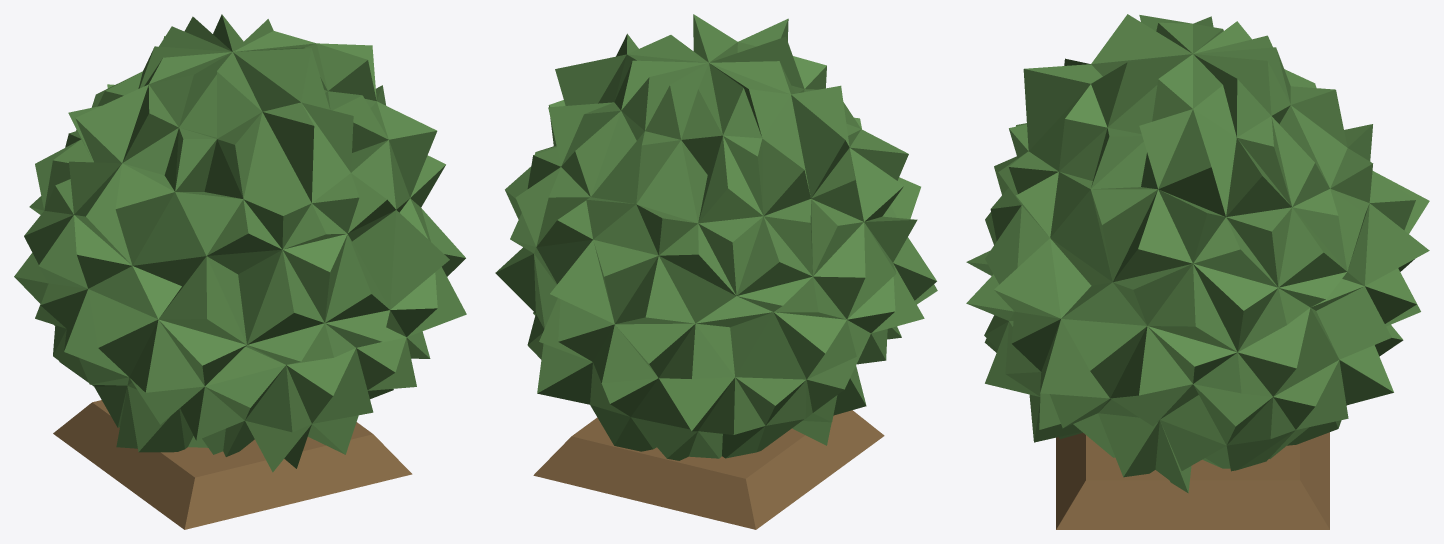
Rendered from trimmed-foundation-shrub-616ce0.glb.
3 views of the same model, side by side, from view 1: azimuth 30°, elevation 25°; view 2: azimuth 150°, elevation 25°; view 3: azimuth 270°, elevation 25° (orthographic). The views are drawn at different scales.
Visible parts, largest first — view 1: crown-mesh, mulch-bed; view 2: crown-mesh, mulch-bed; view 3: crown-mesh, mulch-bed.
Part boxes in pixels (x1,y1,x2,y2): crown-mesh: [14, 14, 466, 472]; mulch-bed: [53, 400, 412, 529]; crown-mesh: [495, 14, 937, 460]; mulch-bed: [533, 410, 884, 529]; crown-mesh: [966, 14, 1429, 493]; mulch-bed: [1056, 432, 1329, 529].
Size of the model in its own units: 0.8792 by 0.9 by 0.8716.
